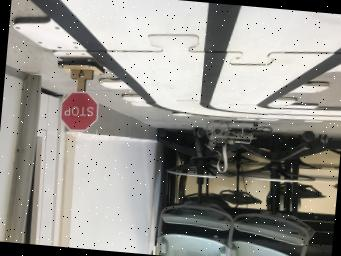stop: (57, 57, 104, 131), (57, 57, 104, 131), (57, 57, 104, 131)
street: (13, 0, 341, 120), (13, 0, 341, 120), (13, 0, 341, 120)
